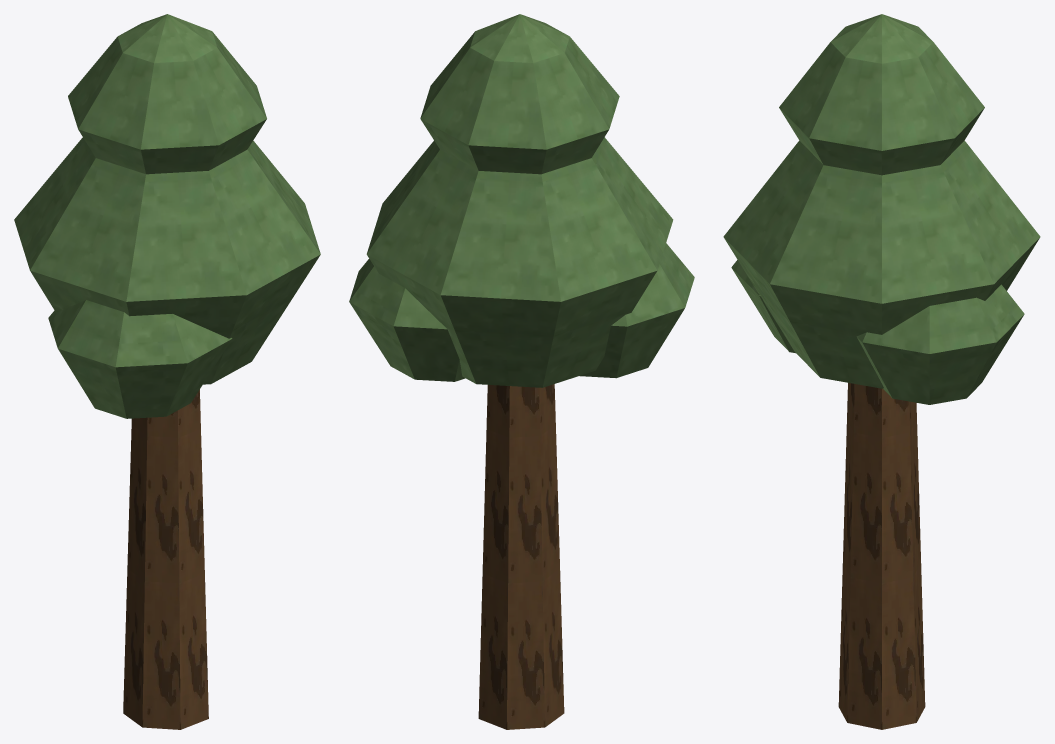
File: tree.oak.glb
3 renders of one model, left to right at view 1: azimuth 30°, elevation 25°; view 2: azimuth 150°, elevation 25°; view 3: azimuth 270°, elevation 25°, orthographic.
Parts seen in each view (by area): view 1: scenery.tree.oak; view 2: scenery.tree.oak; view 3: scenery.tree.oak.
Boxes of the visible parts, bbox=[...] form: scenery.tree.oak: bbox=[14, 14, 320, 729]; scenery.tree.oak: bbox=[349, 14, 694, 729]; scenery.tree.oak: bbox=[723, 14, 1040, 729].
Size of the model in its own units: 2 by 4.85 by 2.
Materials: 2 (2 with a texture image).
